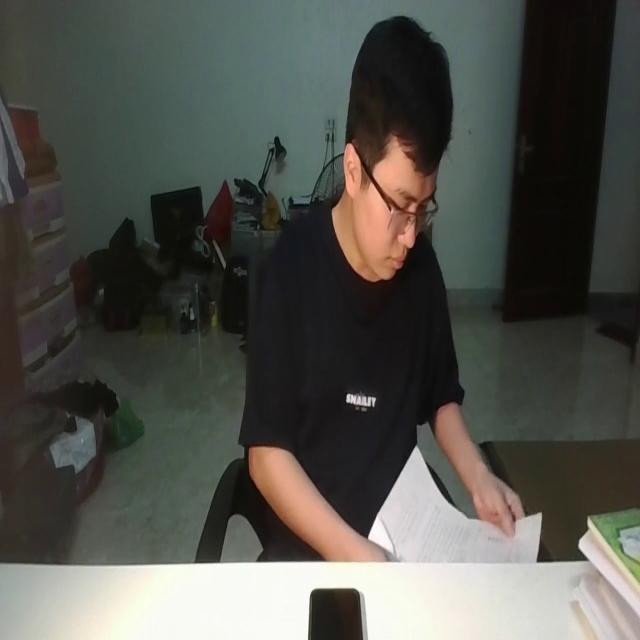book: (366, 442, 542, 566)
phone: (308, 579, 357, 640)
student: (244, 11, 526, 568)
